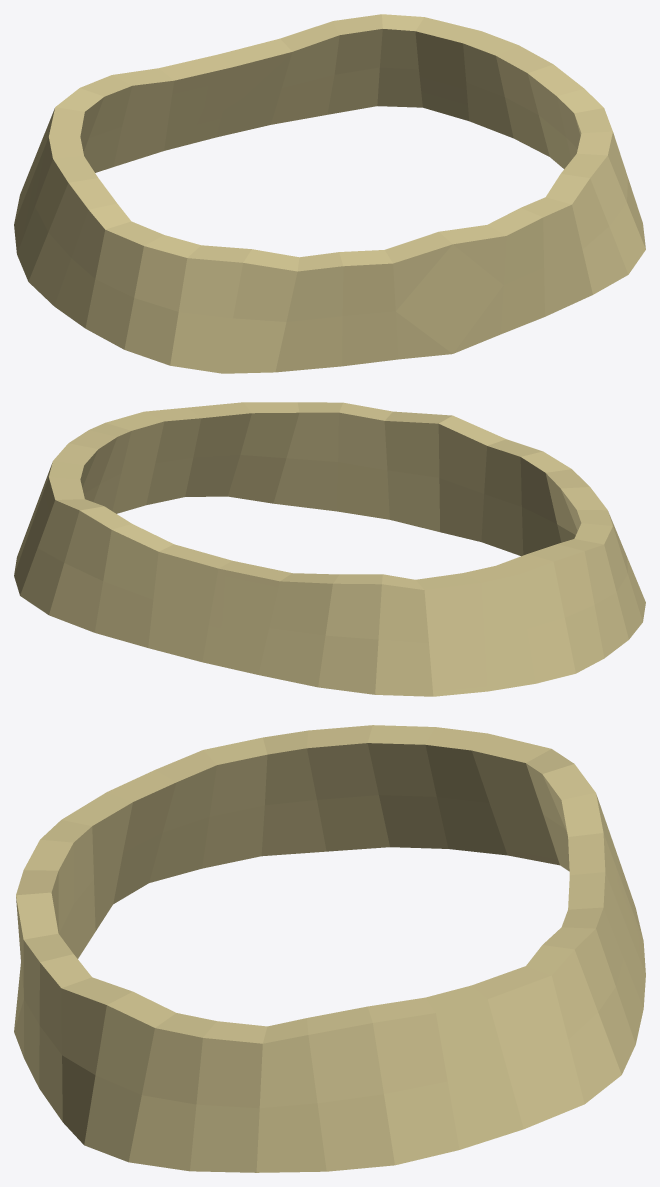
The model's file is Belt Glow.fbx.
The picture shows the model from 3 angles, top to bottom: view 1: azimuth 30°, elevation 25°; view 2: azimuth 150°, elevation 25°; view 3: azimuth 270°, elevation 25°; orthographic projection. The views are drawn at different scales.
Parts seen in each view (by area): view 1: Belt Fix.006; view 2: Belt Fix.006; view 3: Belt Fix.006.
Boxes of the visible parts, <box> form: Belt Fix.006: <box>14,14,645,373</box>; Belt Fix.006: <box>14,402,645,696</box>; Belt Fix.006: <box>14,725,645,1172</box>.
Size of the model in its own units: 11939 by 2897 by 9441.
